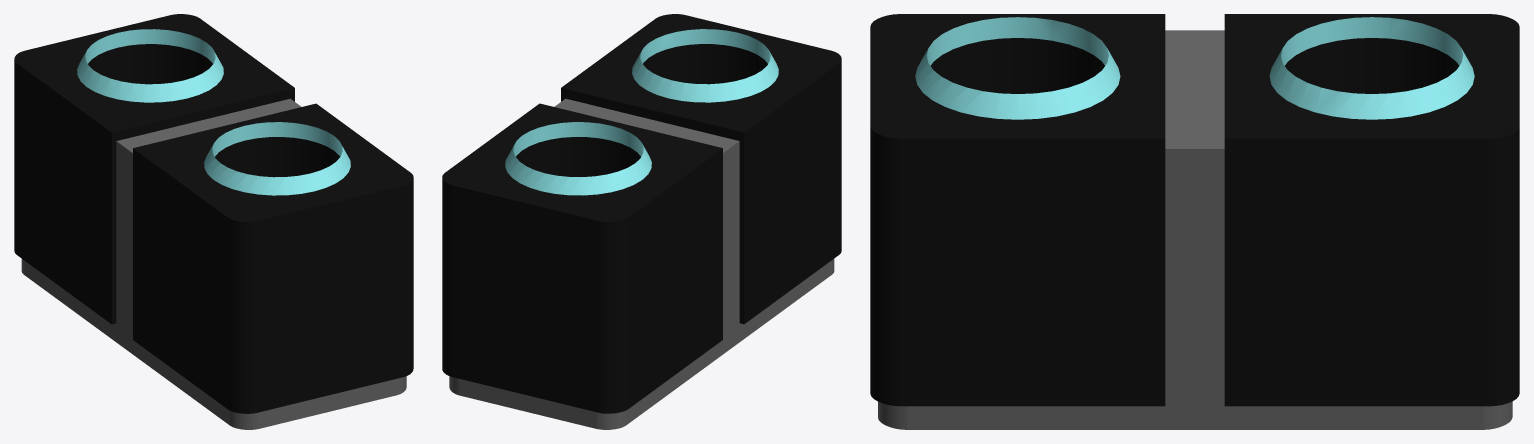
The model's file is laryngoscopeCharger.FBX.
3 renders of one model, left to right at view 1: azimuth 30°, elevation 25°; view 2: azimuth 150°, elevation 25°; view 3: azimuth 270°, elevation 25°, orthographic. The views are drawn at different scales.
Visible parts, largest first — view 1: Line002, Line003, Line004, Cone003, Cone002; view 2: Line003, Line002, Line004, Cone003, Cone002; view 3: Line002, Line003, Line004, Cone003, Cone002.
Boxes of the visible parts, x1,y1,x2,y2 form: Line002: (133, 103, 413, 413); Line003: (14, 14, 294, 324); Line004: (21, 98, 406, 429); Cone003: (77, 29, 223, 102); Cone002: (204, 122, 350, 195); Line003: (442, 103, 722, 413); Line002: (561, 14, 841, 324); Line004: (449, 98, 834, 429); Cone003: (505, 122, 651, 195); Cone002: (632, 29, 778, 102); Line002: (870, 14, 1165, 406); Line003: (1224, 14, 1519, 406); Line004: (878, 30, 1512, 429); Cone003: (1269, 17, 1474, 119); Cone002: (915, 17, 1120, 119).
Size of the model in its own units: 2 by 2.36 by 4.4.
